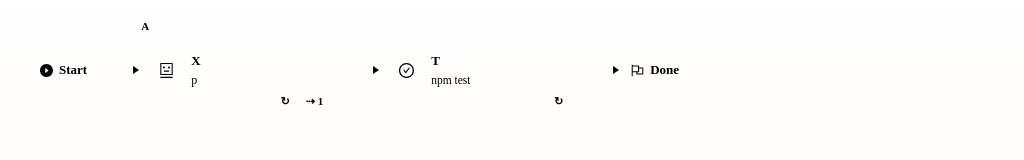
FlowCanvas › badges explain themselves in a tooltip and to screen readers
Hover over the picture with test id "flow-badge" showing "⇢ 1": x=314, y=101 [306, 95, 323, 107]
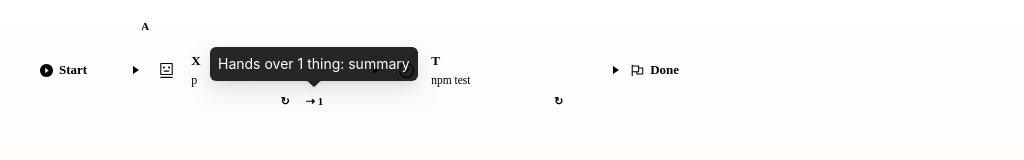
Now the element showing "Hands over 1 thing: summary" is shown, box [210, 47, 418, 81]
